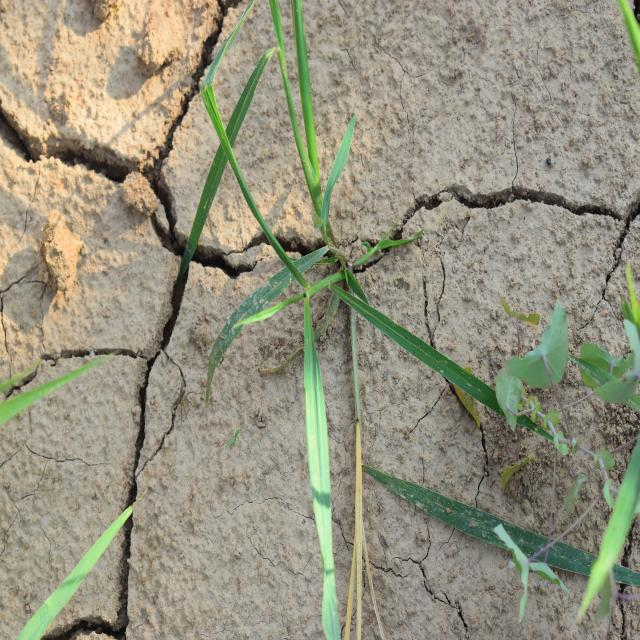green_foxtail: (189, 19, 433, 513)
